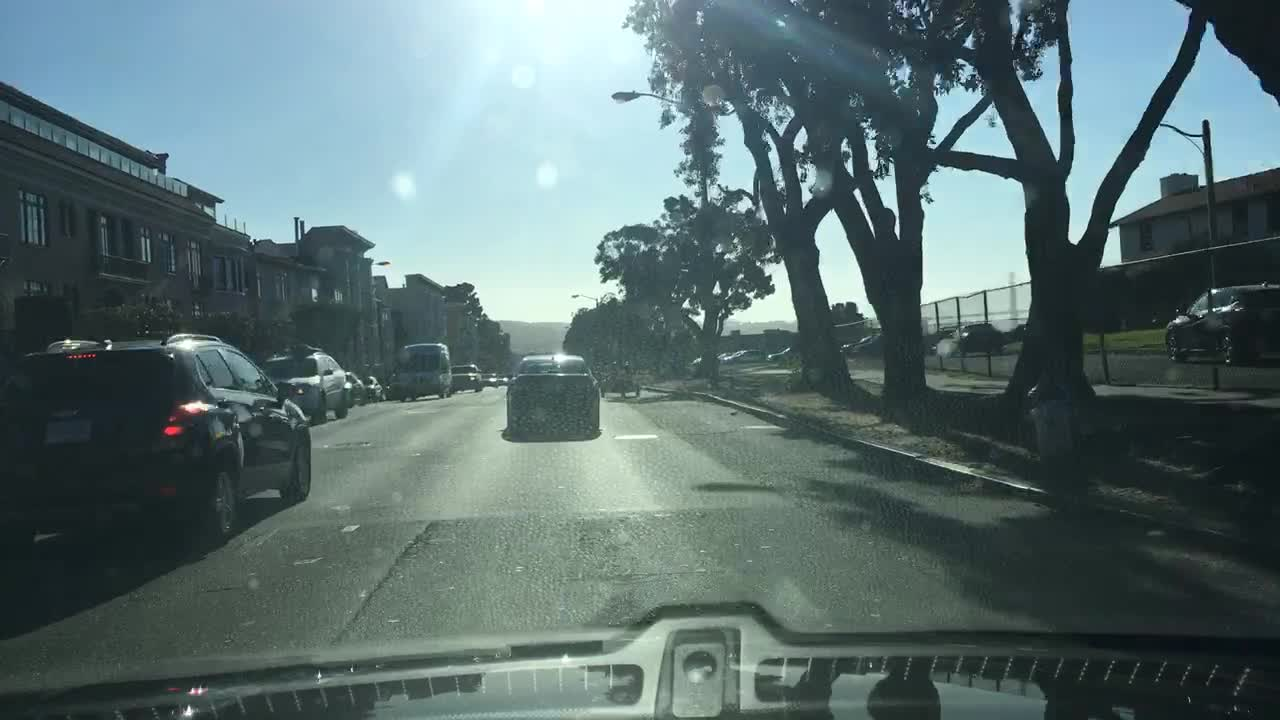car: (0, 333, 311, 549), (1162, 281, 1277, 365), (502, 354, 597, 434), (255, 344, 349, 422), (390, 343, 451, 401), (948, 320, 1001, 353), (600, 363, 640, 398), (451, 364, 482, 394), (341, 373, 366, 404), (767, 341, 802, 363), (854, 331, 883, 355), (363, 371, 384, 403), (844, 333, 873, 351), (723, 351, 762, 363), (479, 371, 496, 386)
